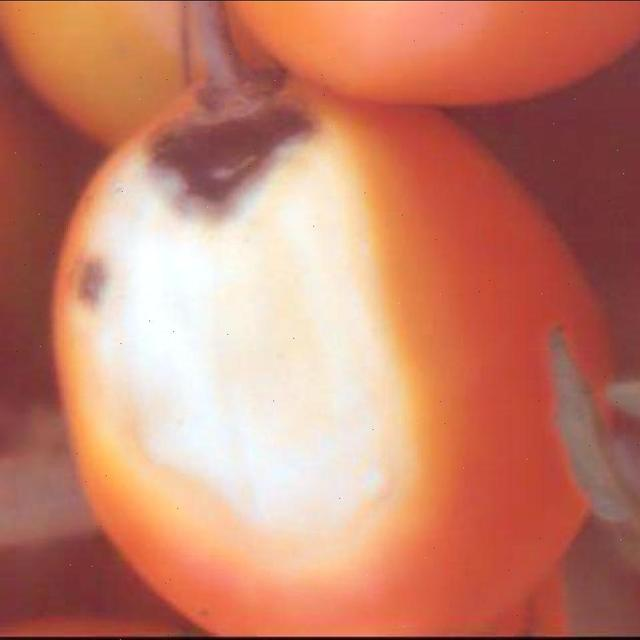Sunscald Fruit: (44, 74, 282, 385)
